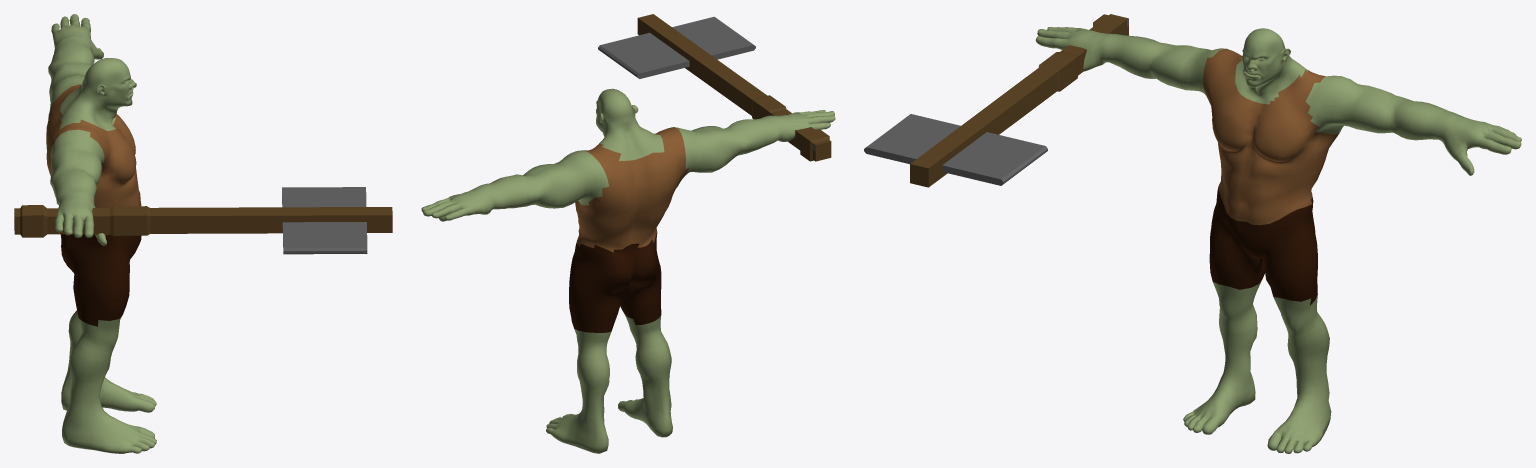
File: warrior_orc.glb
The picture shows the model from 3 angles, left to right: view 1: azimuth 30°, elevation 25°; view 2: azimuth 150°, elevation 25°; view 3: azimuth 270°, elevation 25°; orthographic projection. The views are drawn at different scales.
Visible parts, largest first — view 1: Brute Orc, Cube; view 2: Brute Orc, Cube; view 3: Brute Orc, Cube.
Boxes of the visible parts, <box> form: Brute Orc: <box>46,14,156,453</box>; Cube: <box>14,187,392,254</box>; Brute Orc: <box>421,88,835,453</box>; Cube: <box>598,14,831,161</box>; Brute Orc: <box>1035,27,1521,453</box>; Cube: <box>864,14,1128,187</box>.
Bounding box in the file's own units: 6.98 × 8.15 × 12.22.
